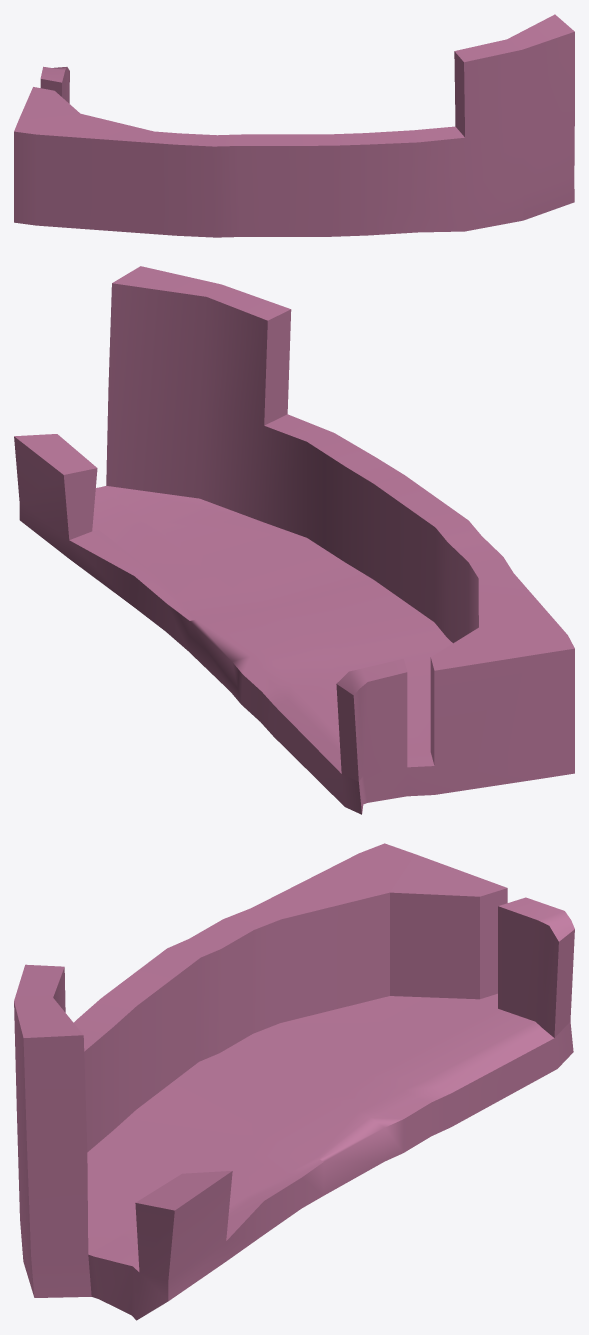
The model's file is terrain_W3A4.fbx.
3 renders of one model, top to bottom at view 1: azimuth 30°, elevation 25°; view 2: azimuth 150°, elevation 25°; view 3: azimuth 270°, elevation 25°, orthographic. The views are drawn at different scales.
Parts seen in each view (by area): view 1: W3A4_mesh; view 2: W3A4_mesh; view 3: W3A4_mesh.
Boxes of the visible parts, x1,y1,x2,y2 form: W3A4_mesh: [14, 14, 574, 237]; W3A4_mesh: [14, 266, 574, 814]; W3A4_mesh: [14, 843, 574, 1320].
Bounding box in the file's own units: 26129 × 9567 × 17898.
